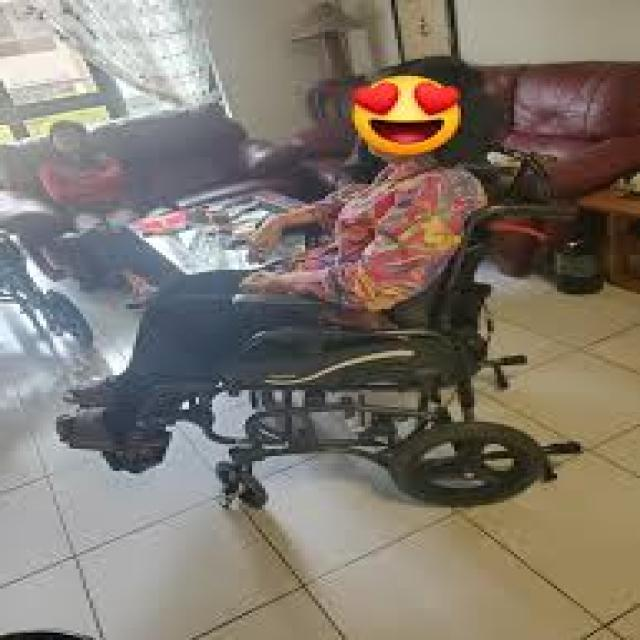wheelchairs: (169, 189, 604, 512)
